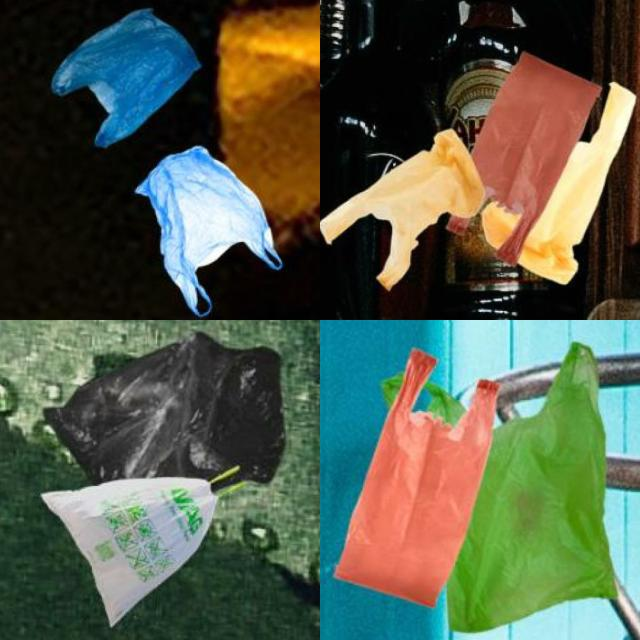Single-layer Plastic: (448, 342, 615, 631), (335, 349, 499, 608), (45, 334, 284, 481), (471, 52, 601, 264), (320, 129, 485, 289), (42, 478, 218, 626), (135, 146, 282, 316), (519, 82, 635, 284), (51, 9, 200, 148)
